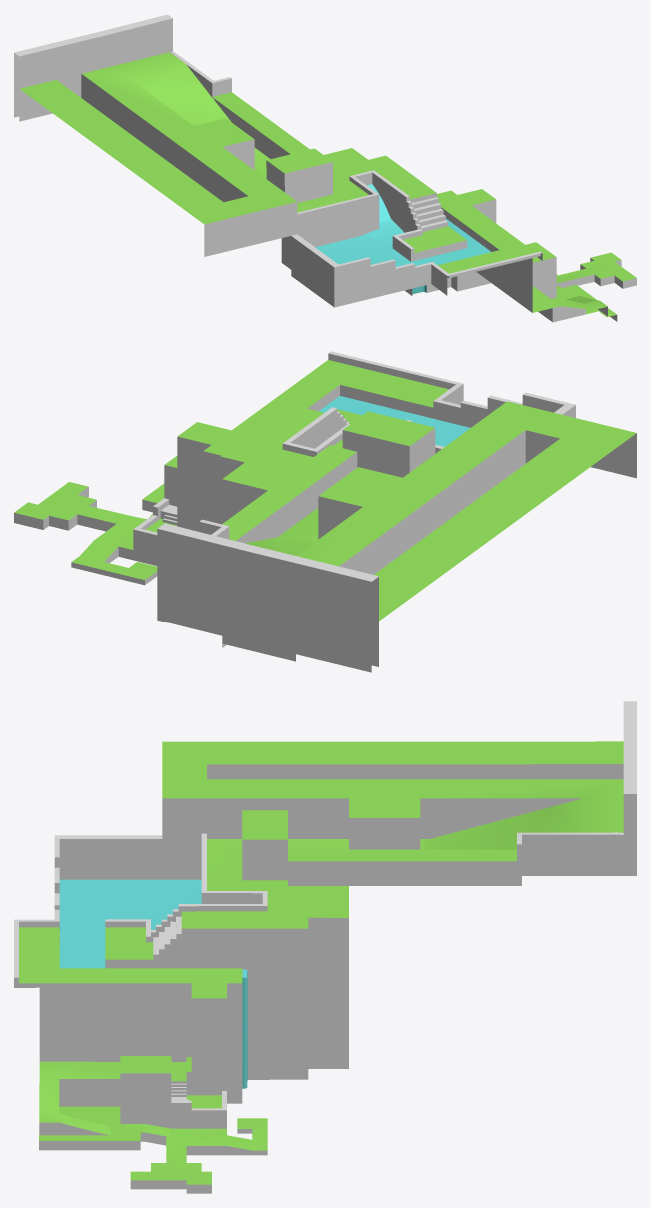
The model's file is Map Finish.fbx.
3 renders of one model, top to bottom at view 1: azimuth 30°, elevation 25°; view 2: azimuth 150°, elevation 25°; view 3: azimuth 270°, elevation 25°, orthographic. The views are drawn at different scales.
Parts seen in each view (by area): view 1: Cim, Cim.002; view 2: Cim, Cim.002; view 3: Cim, Cim.002.
Boxes of the visible parts, x1,y1,x2,y2 form: Cim: [14, 14, 636, 322]; Cim.002: [315, 184, 490, 294]; Cim: [14, 351, 636, 672]; Cim.002: [319, 396, 470, 446]; Cim: [14, 701, 636, 1193]; Cim.002: [59, 879, 247, 1088].
Size of the model in its own units: 17220 by 7218 by 17449.
